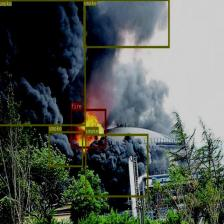fire: (70, 108, 106, 148)
smoke: (0, 0, 85, 125), (83, 0, 169, 48), (85, 133, 148, 197), (48, 131, 83, 167)
